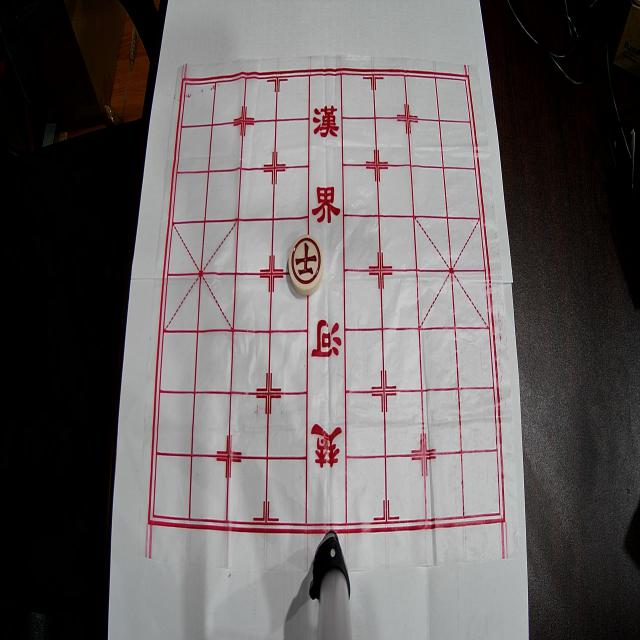red-guard: (288, 234, 324, 295)
